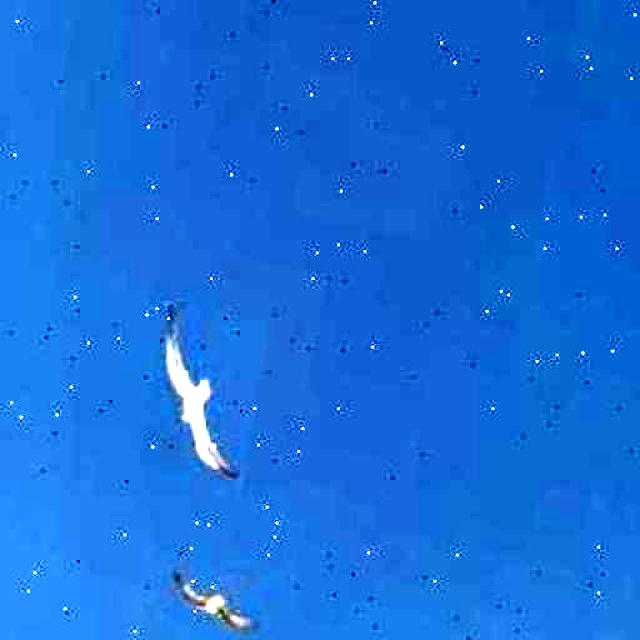airplane: (138, 302, 270, 481), (165, 564, 269, 636)
